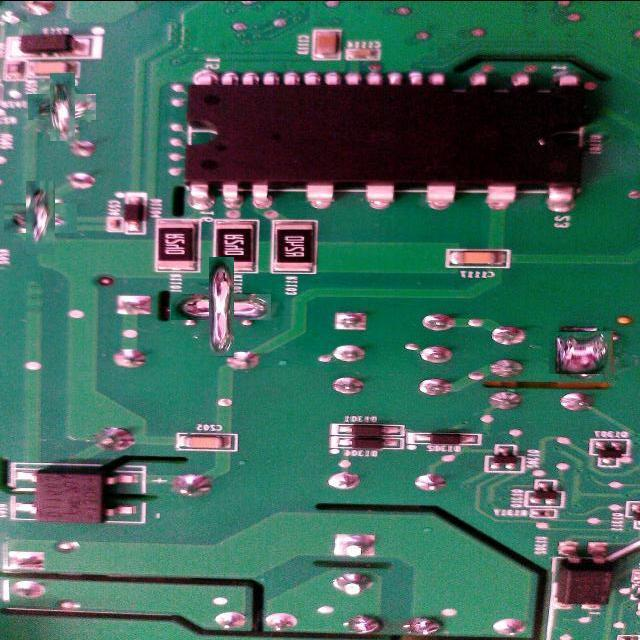Short_circuit: (190, 276, 253, 339), (554, 325, 608, 379), (15, 192, 66, 244), (39, 84, 85, 131)
